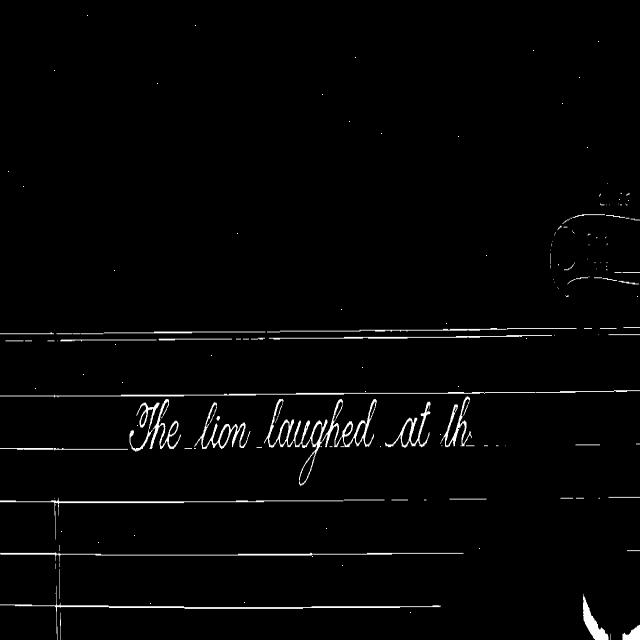hand: (584, 595, 611, 639), (622, 625, 640, 639)
noise: (0, 326, 640, 341), (0, 543, 464, 556), (0, 389, 640, 397), (0, 601, 440, 611), (0, 498, 411, 504), (51, 499, 61, 639), (0, 444, 153, 452), (569, 438, 640, 449), (460, 438, 514, 448), (158, 444, 217, 451), (321, 439, 356, 449), (400, 440, 434, 449), (240, 443, 281, 449), (626, 544, 640, 561), (448, 497, 488, 501), (438, 441, 459, 448), (605, 495, 640, 499), (358, 441, 373, 449), (220, 444, 236, 451), (560, 497, 586, 501), (379, 443, 396, 449)
not-noise: (184, 397, 434, 452), (130, 398, 187, 452), (439, 396, 472, 446)
page-marker: (550, 194, 640, 295)
